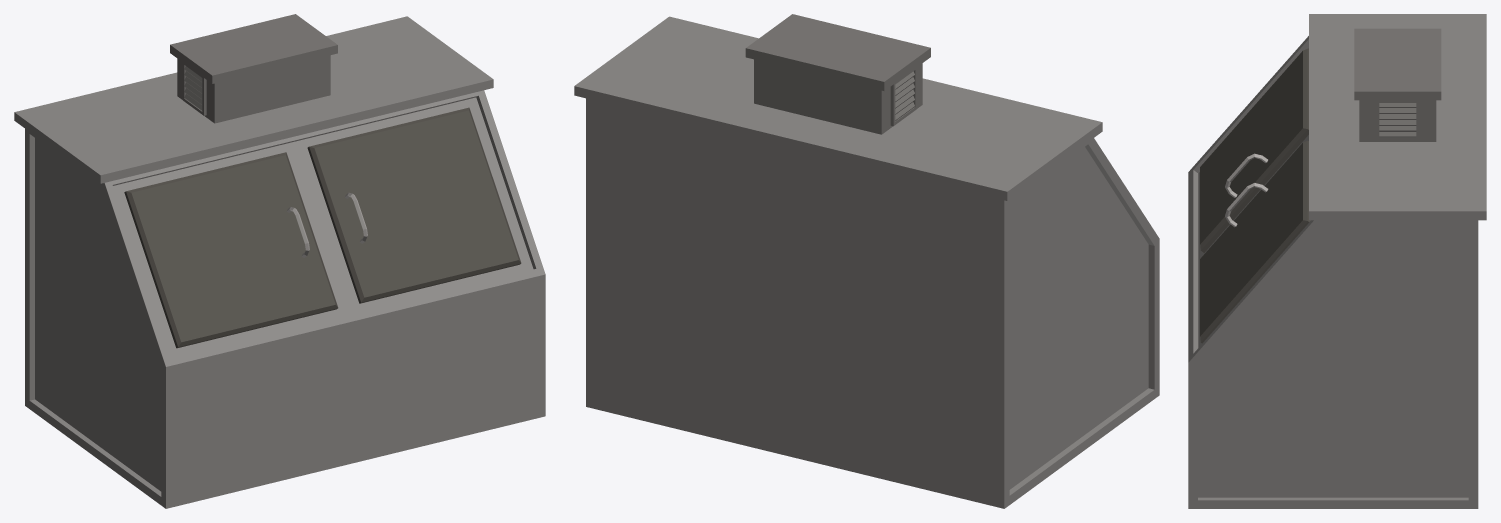
File: SM_Bldg_Desert_GasStation_ICE.fbx
3 renders of one model, left to right at view 1: azimuth 30°, elevation 25°; view 2: azimuth 150°, elevation 25°; view 3: azimuth 270°, elevation 25°, orthographic. The views are drawn at different scales.
Visible parts, largest first — view 1: SM_Bldg_Desert_GasStation_ICE; view 2: SM_Bldg_Desert_GasStation_ICE; view 3: SM_Bldg_Desert_GasStation_ICE.
Part boxes in pixels (bbox=[...]): SM_Bldg_Desert_GasStation_ICE: bbox=[14, 14, 545, 508]; SM_Bldg_Desert_GasStation_ICE: bbox=[574, 14, 1159, 508]; SM_Bldg_Desert_GasStation_ICE: bbox=[1188, 14, 1486, 508].
Size of the model in its own units: 290 by 242 by 185.
